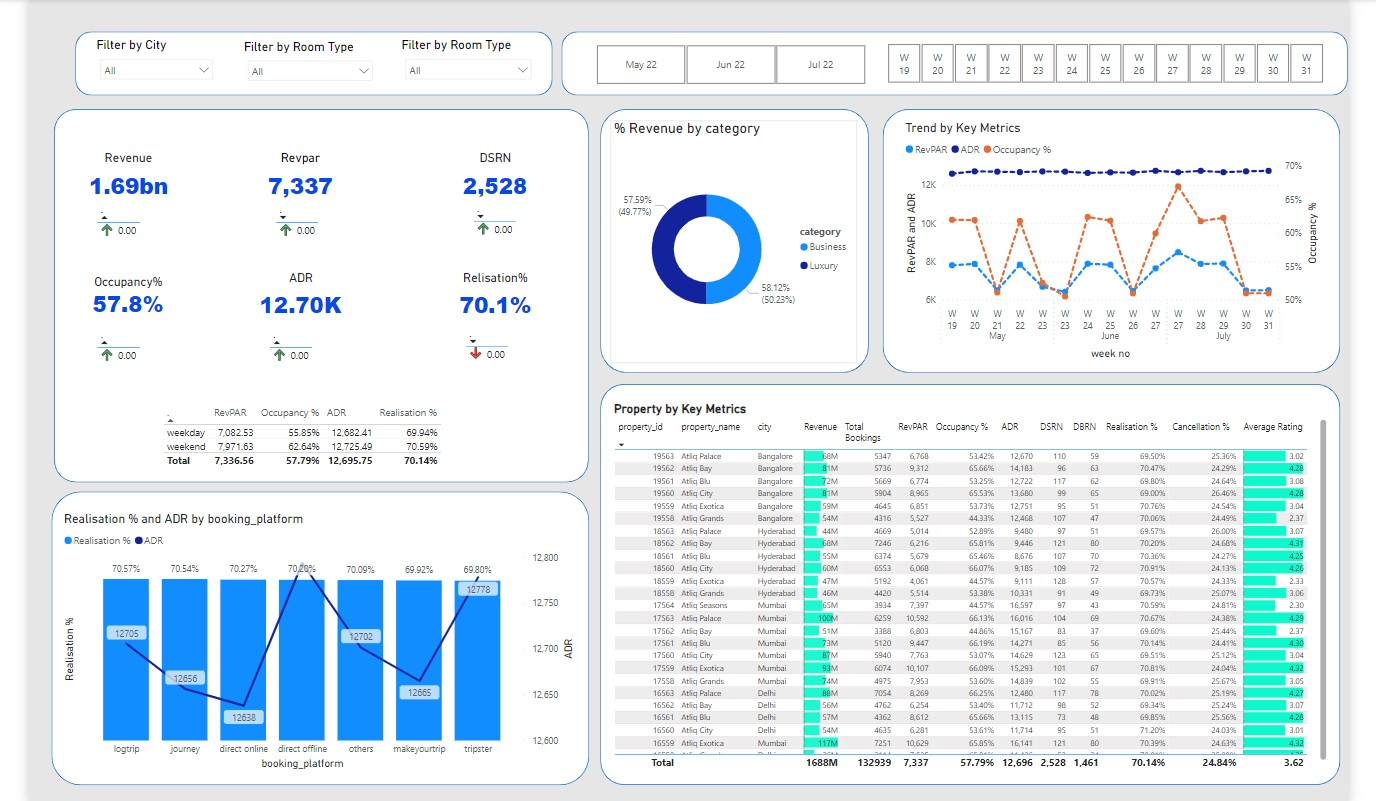

The page's visual inventory and layout, read from the dashboard file:
{"tool":"powerbi","page":{"name":"DASHBOARD","canvas":[1800,1100],"ordinal":0},"visuals":[{"type":"shape","box":[779.4,525.3,1009.6,547.4],"z":0},{"type":"shape","box":[30.7,671.9,733.3,400.8],"z":1000},{"type":"shape","box":[779.4,150.1,366.7,359.8],"z":2000},{"type":"shape","box":[1164.8,150.1,624.2,359.8],"z":3000},{"type":"shape","box":[34.1,150.1,729.9,509.9],"z":4000},{"type":"shape","box":[726.5,44.3,1072.7,87],"z":5000},{"type":"shape","box":[63.1,44.3,651.5,87],"z":6000},{"type":"tableEx","title":"Property by Key Metrics","fields":{"Values":["dim_hotels.property_id","dim_hotels.property_name","dim_hotels.city","key_measure.Revenue","key_measure.Total Bookings","key_measure.RevPAR","key_measure.Occupancy %","key_measure.ADR","key_measure.DSRN","key_measure.DBRN","key_measure.Realisation %","key_measure.Cancellation %"]},"box":[793,549.1,982.3,506.5],"z":7000},{"type":"card","title":"Occupancy%","fields":{"Values":["key_measure.Occupancy %"]},"box":[65.7,375.7,138.1,63.9],"z":8000},{"type":"slicer","title":"Filter by City","fields":{"Values":["dim_hotels.city"]},"box":[87,52.9,174,68.2],"z":9000},{"type":"slicer","title":"Filter by Room Type","fields":{"Values":["dim_rooms.room_class"]},"box":[288.2,54.6,191,68.2],"z":10000},{"type":"slicer","title":"Filter by Room Type","fields":{"Values":["dim_date.week no"]},"box":[1146,54.6,642.9,66.5],"z":11000},{"type":"slicer","title":"Filter by Room Type","fields":{"Values":["dim_date.mmm yy"]},"box":[748.7,56.3,416.1,66.5],"z":12000},{"type":"card","title":"Revenue","fields":{"Values":["key_measure.Revenue"]},"box":[55.5,206.4,158.6,78.4],"z":13000},{"type":"donutChart","title":"% Revenue by category","fields":{"Y":["key_measure.Occupancy %"],"Category":["dim_hotels.category"]},"box":[793,165.4,337.7,330.9],"z":14000},{"type":"lineChart","title":"Trend by Key Metrics","fields":{"Y":["key_measure.RevPAR","key_measure.ADR"],"Category":["dim_date.mmm yy.Variation.Date Hierarchy.Month","dim_date.week no"],"Y2":["key_measure.Occupancy %"]},"box":[1190.4,165.4,573,330.9],"z":15000},{"type":"lineStackedColumnComboChart","fields":{"Y":["key_measure.Realisation %"],"Category":["fact_bookings.booking_platform"],"Y2":["key_measure.ADR"]},"box":[42.6,699.2,706,356.4],"z":16000},{"type":"card","title":"Revpar","fields":{"Values":["key_measure.RevPAR"]},"box":[303.9,206.4,133,78.4],"z":17000},{"type":"card","title":"DSRN","fields":{"Values":["key_measure.DSRN"]},"box":[561.1,206.4,150.1,78.4],"z":18000},{"type":"tableEx","fields":{"Values":["key_measure.\"Revenue WoW change %"]},"box":[600.3,270.3,71.6,69.9],"z":19000},{"type":"tableEx","fields":{"Values":["key_measure.\"Revenue WoW change %"]},"box":[331.6,270.7,77.7,69.1],"z":20000},{"type":"card","title":"ADR","fields":{"Values":["key_measure.ADR"]},"box":[294.5,370.1,151.8,75],"z":21000},{"type":"card","title":"Relisation%","fields":{"Values":["key_measure.Realisation %"]},"box":[557.7,370.1,156.9,75],"z":22000},{"type":"tableEx","fields":{"Values":["dim_date.day_type","key_measure.RevPAR","key_measure.Occupancy %","key_measure.ADR","key_measure.Realisation %"]},"box":[177.4,549.1,412.7,95.5],"z":23000},{"type":"tableEx","fields":{"Values":["key_measure.\"Revenue WoW change %"]},"box":[87.3,270.7,95,69.1],"z":24000},{"type":"tableEx","fields":{"Values":["key_measure.\"Revenue WoW change %"]},"box":[87.3,440.9,95,69.1],"z":25000},{"type":"tableEx","fields":{"Values":["key_measure.\"Revenue WoW change %"]},"box":[322.9,440.9,95,69.1],"z":26000},{"type":"tableEx","fields":{"Values":["key_measure.\"Revenue WoW change %"]},"box":[590.1,440.5,92.1,69.9],"z":27000},{"type":"slicer","title":"Filter by Room Type","fields":{"Values":["dim_rooms.room_class"]},"box":[503.1,52.9,192.7,68.2],"z":28000}]}

Visuals, with their boxes on the page's 1800x1100 design canvas (x1, y1, x2, y2). These are canvas units, not pixel positions in the 1376x801 screenshot, which may show the page scaled, cropped or inside an application window:
shape: select_region(779, 525, 1789, 1073)
shape: select_region(31, 672, 764, 1073)
shape: select_region(779, 150, 1146, 510)
shape: select_region(1165, 150, 1789, 510)
shape: select_region(34, 150, 764, 660)
shape: select_region(726, 44, 1799, 131)
shape: select_region(63, 44, 715, 131)
"Property by Key Metrics" tableEx: select_region(793, 549, 1775, 1056)
"Occupancy%" card: select_region(66, 376, 204, 440)
"Filter by City" slicer: select_region(87, 53, 261, 121)
"Filter by Room Type" slicer: select_region(288, 55, 479, 123)
"Filter by Room Type" slicer: select_region(1146, 55, 1789, 121)
"Filter by Room Type" slicer: select_region(749, 56, 1165, 123)
"Revenue" card: select_region(56, 206, 214, 285)
"% Revenue by category" donutChart: select_region(793, 165, 1131, 496)
"Trend by Key Metrics" lineChart: select_region(1190, 165, 1763, 496)
lineStackedColumnComboChart - key_measure.Realisation % x fact_bookings.booking_platform: select_region(43, 699, 749, 1056)
"Revpar" card: select_region(304, 206, 437, 285)
"DSRN" card: select_region(561, 206, 711, 285)
tableEx - key_measure."Revenue WoW change %: select_region(600, 270, 672, 340)
tableEx - key_measure."Revenue WoW change %: select_region(332, 271, 409, 340)
"ADR" card: select_region(294, 370, 446, 445)
"Relisation%" card: select_region(558, 370, 715, 445)
tableEx - dim_date.day_type x key_measure.RevPAR: select_region(177, 549, 590, 645)
tableEx - key_measure."Revenue WoW change %: select_region(87, 271, 182, 340)
tableEx - key_measure."Revenue WoW change %: select_region(87, 441, 182, 510)
tableEx - key_measure."Revenue WoW change %: select_region(323, 441, 418, 510)
tableEx - key_measure."Revenue WoW change %: select_region(590, 440, 682, 510)
"Filter by Room Type" slicer: select_region(503, 53, 696, 121)
